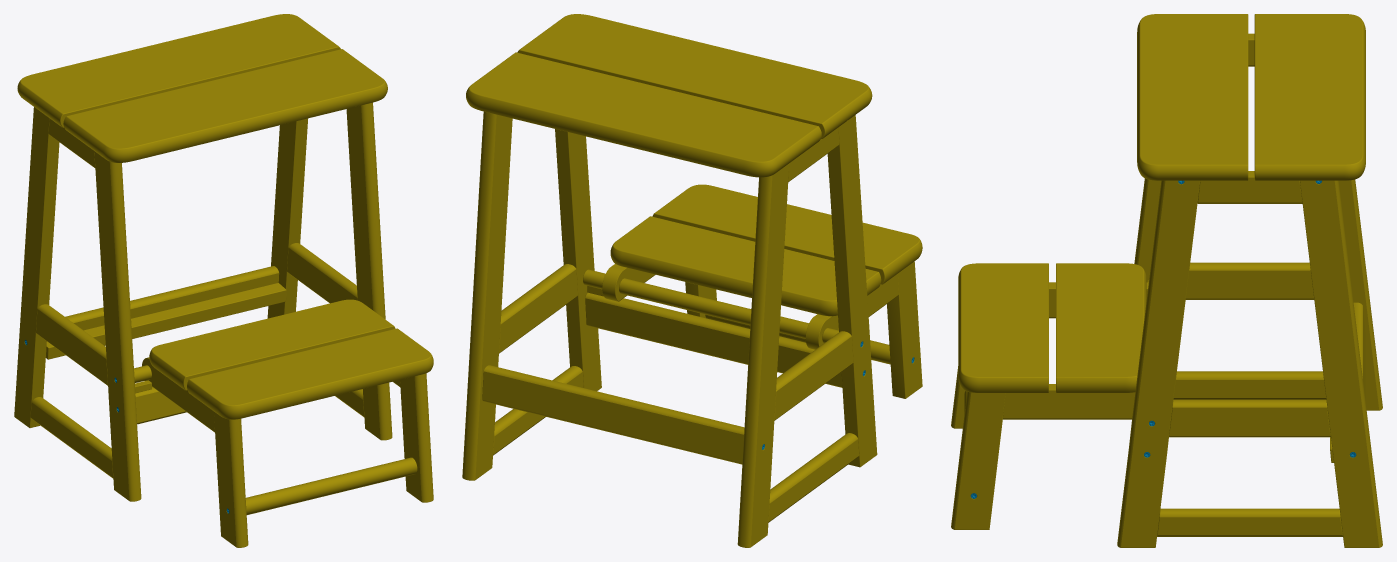
The model's file is A01_LadderSmall_01.fbx.
The picture shows the model from 3 angles, left to right: view 1: azimuth 30°, elevation 25°; view 2: azimuth 150°, elevation 25°; view 3: azimuth 270°, elevation 25°; orthographic projection. The views are drawn at different scales.
Parts seen in each view (by area): view 1: SM_LadderSmall_01; view 2: SM_LadderSmall_01; view 3: SM_LadderSmall_01.
Part boxes in pixels (bbox=[...]): SM_LadderSmall_01: bbox=[14, 14, 433, 547]; SM_LadderSmall_01: bbox=[462, 14, 922, 547]; SM_LadderSmall_01: bbox=[951, 14, 1382, 547].
Bounding box in the file's own units: 33.77 × 39.54 × 40.
